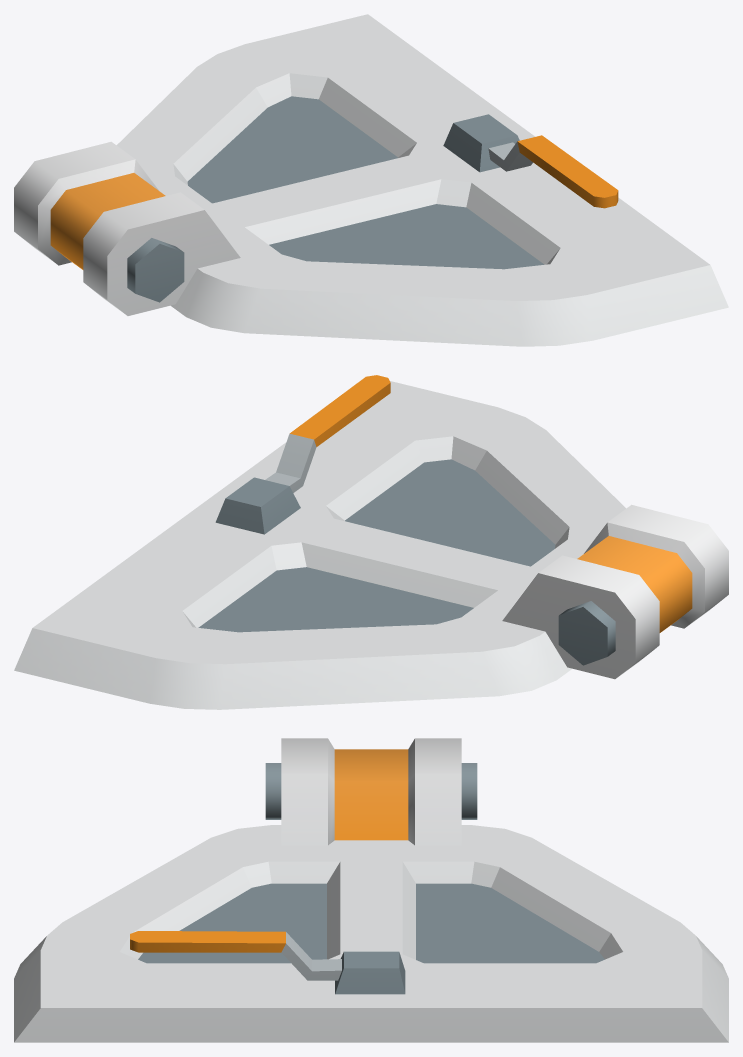
File: Hatch_005_door_001.fbx
3 views of the same model, one above another, from view 1: azimuth 30°, elevation 25°; view 2: azimuth 150°, elevation 25°; view 3: azimuth 270°, elevation 25° (orthographic). The views are drawn at different scales.
Parts seen in each view (by area): view 1: Hatch_005_door_001; view 2: Hatch_005_door_001; view 3: Hatch_005_door_001.
Part boxes in pixels (x1,y1,x2,y2): Hatch_005_door_001: (14,14,728,346); Hatch_005_door_001: (14,375,728,709); Hatch_005_door_001: (14,738,728,1042).
Bounding box in the file's own units: 60.25 × 80 × 10.76.
